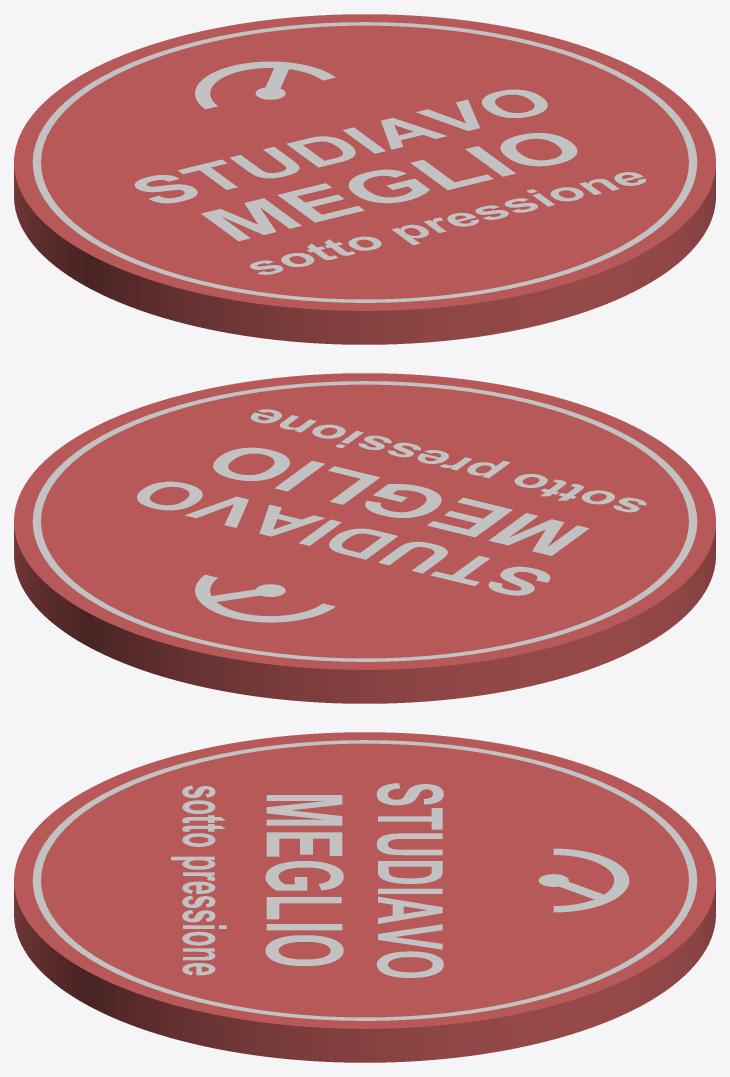
Rendered from sottobicchiere-sotto-pressione.glb.
3 views of the same model, one above another, from view 1: azimuth 30°, elevation 25°; view 2: azimuth 150°, elevation 25°; view 3: azimuth 270°, elevation 25° (orthographic).
Parts seen in each view (by area): view 1: coaster_base, coaster_ink; view 2: coaster_base, coaster_ink; view 3: coaster_base, coaster_ink.
Boxes of the visible parts, <box> form: coaster_base: <box>14,14,715,344</box>; coaster_ink: <box>32,22,697,302</box>; coaster_base: <box>14,373,715,703</box>; coaster_ink: <box>32,381,697,661</box>; coaster_base: <box>14,732,715,1062</box>; coaster_ink: <box>32,740,697,1020</box>.
Bounding box in the file's own units: 0.075 × 0.004 × 0.075.
